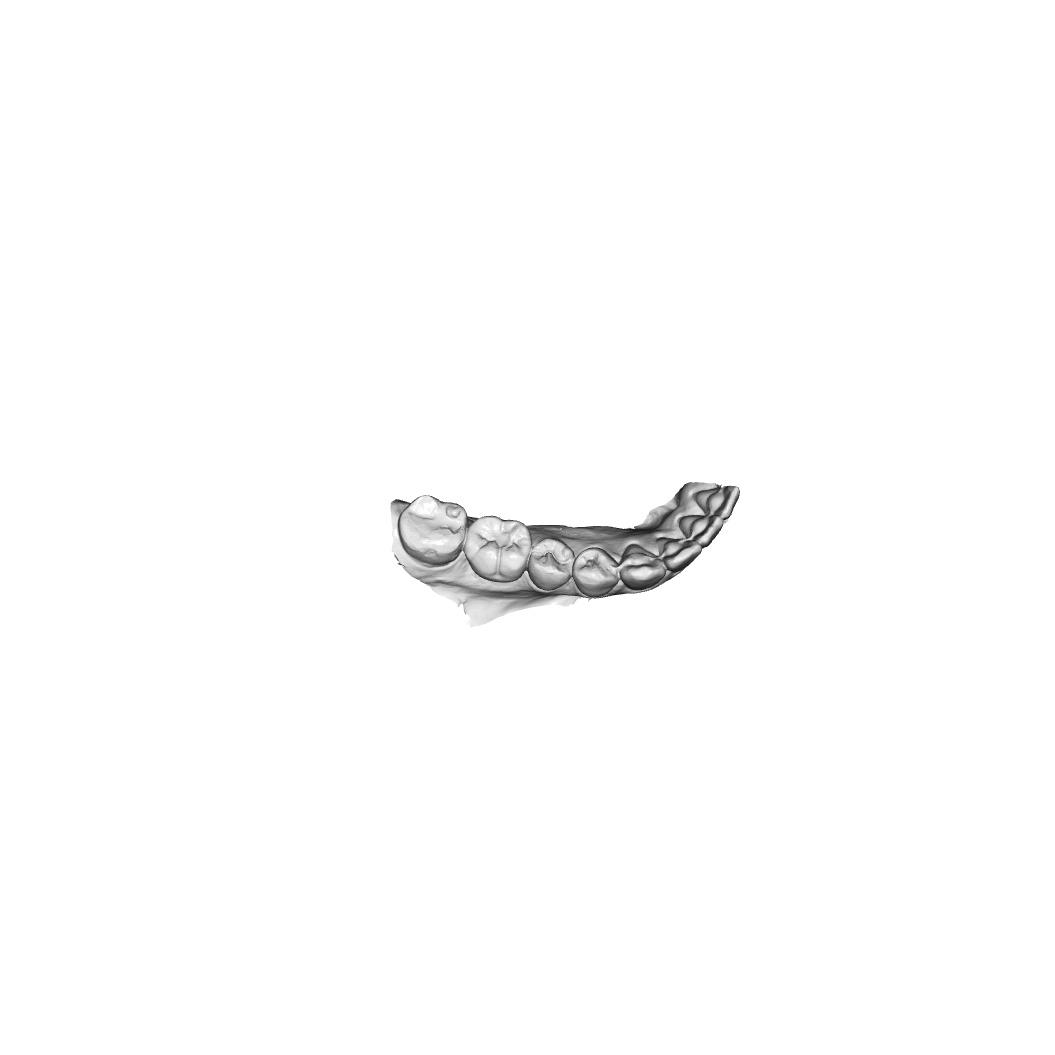canine: (619, 543, 667, 592)
incisor: (691, 485, 742, 521), (656, 536, 703, 574), (678, 514, 724, 550)
molar: (397, 494, 469, 568), (463, 515, 532, 584)
premolar: (527, 536, 576, 591), (571, 547, 619, 598)
